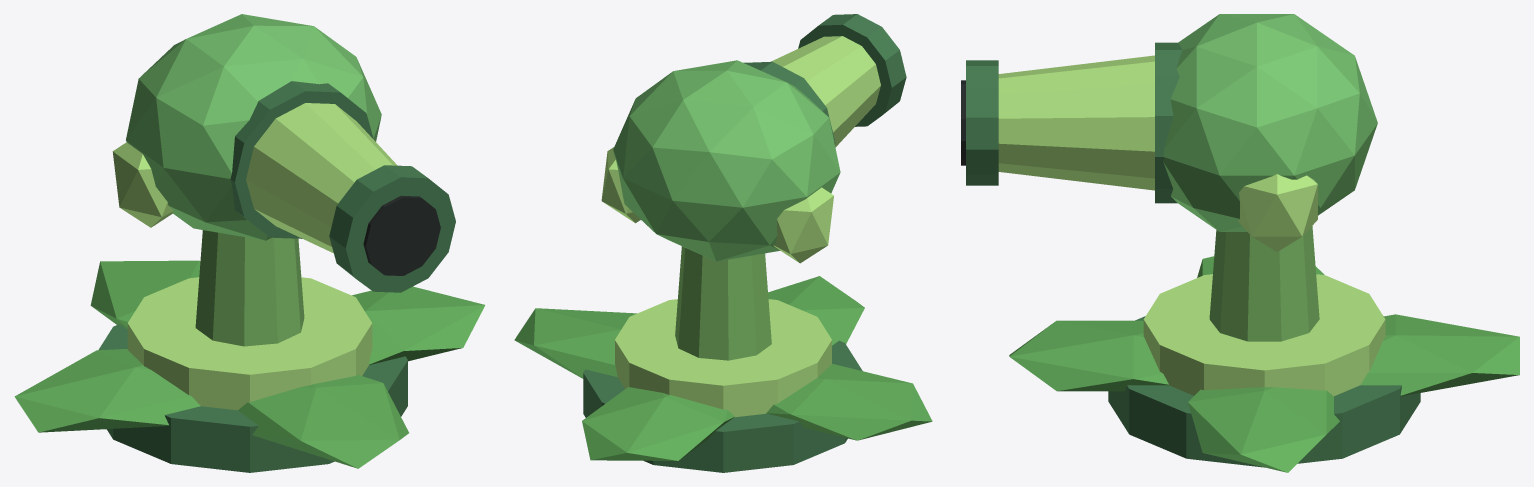
The model's file is AutoShooter.glb.
3 views of the same model, side by side, from view 1: azimuth 30°, elevation 25°; view 2: azimuth 150°, elevation 25°; view 3: azimuth 270°, elevation 25° (orthographic). The views are drawn at different scales.
Parts seen in each view (by area): view 1: BotanicalTurret_Bulb, BotanicalTurret_RotationRing, BotanicalTurret_Barrel, BotanicalTurret_Stem, BotanicalTurret_Leaf_Front, BotanicalTurret_Base, BotanicalTurret_Leaf_Left, BotanicalTurret_MuzzleRim, BotanicalTurret_Leaf_Right, BotanicalTurret_NeckCollar, BotanicalTurret_MuzzleOpening, BotanicalTurret_Leaf_Back (+1 smaller); view 2: BotanicalTurret_Bulb, BotanicalTurret_RotationRing, BotanicalTurret_Stem, BotanicalTurret_Base, BotanicalTurret_Leaf_Back, BotanicalTurret_Leaf_Left, BotanicalTurret_Barrel, BotanicalTurret_Leaf_Right, BotanicalTurret_MuzzleRim, BotanicalTurret_Leaf_Front, BotanicalTurret_EnergyPod_Left, BotanicalTurret_EnergyPod_Right (+1 smaller); view 3: BotanicalTurret_Bulb, BotanicalTurret_Barrel, BotanicalTurret_RotationRing, BotanicalTurret_Stem, BotanicalTurret_Base, BotanicalTurret_Leaf_Right, BotanicalTurret_Leaf_Back, BotanicalTurret_Leaf_Front, BotanicalTurret_EnergyPod_Right, BotanicalTurret_MuzzleRim, BotanicalTurret_NeckCollar.
Part boxes in pixels (x1=…): BotanicalTurret_Bulb: x1=126, y1=14, x2=381, y2=240; BotanicalTurret_RotationRing: x1=127, y1=277, x2=372, y2=410; BotanicalTurret_Barrel: x1=246, y1=103, x2=397, y2=252; BotanicalTurret_Stem: x1=195, y1=230, x2=304, y2=346; BotanicalTurret_Leaf_Front: x1=238, y1=374, x2=408, y2=468; BotanicalTurret_Base: x1=98, y1=324, x2=407, y2=472; BotanicalTurret_Leaf_Left: x1=14, y1=349, x2=200, y2=432; BotanicalTurret_MuzzleRim: x1=329, y1=165, x2=455, y2=292; BotanicalTurret_Leaf_Right: x1=352, y1=286, x2=485, y2=364; BotanicalTurret_NeckCollar: x1=230, y1=81, x2=373, y2=238; BotanicalTurret_MuzzleOpening: x1=363, y1=195, x2=440, y2=275; BotanicalTurret_Leaf_Back: x1=90, y1=260, x2=200, y2=329; BotanicalTurret_Bulb: x1=613, y1=60, x2=840, y2=261; BotanicalTurret_RotationRing: x1=615, y1=299, x2=831, y2=417; BotanicalTurret_Stem: x1=675, y1=246, x2=771, y2=360; BotanicalTurret_Base: x1=583, y1=340, x2=862, y2=472; BotanicalTurret_Leaf_Back: x1=582, y1=387, x2=734, y2=460; BotanicalTurret_Leaf_Left: x1=766, y1=364, x2=932, y2=440; BotanicalTurret_Barrel: x1=770, y1=36, x2=880, y2=147; BotanicalTurret_Leaf_Right: x1=514, y1=308, x2=636, y2=378; BotanicalTurret_MuzzleRim: x1=798, y1=14, x2=906, y2=126; BotanicalTurret_Leaf_Front: x1=768, y1=276, x2=864, y2=345; BotanicalTurret_EnergyPod_Left: x1=773, y1=187, x2=833, y2=263; BotanicalTurret_EnergyPod_Right: x1=601, y1=147, x2=640, y2=223; BotanicalTurret_Bulb: x1=1163, y1=14, x2=1377, y2=231; BotanicalTurret_Barrel: x1=998, y1=55, x2=1154, y2=190; BotanicalTurret_RotationRing: x1=1143, y1=274, x2=1385, y2=396; BotanicalTurret_Stem: x1=1209, y1=226, x2=1319, y2=341; BotanicalTurret_Base: x1=1108, y1=316, x2=1420, y2=467; BotanicalTurret_Leaf_Right: x1=1188, y1=387, x2=1339, y2=472; BotanicalTurret_Leaf_Back: x1=1360, y1=314, x2=1519, y2=396; BotanicalTurret_Leaf_Front: x1=1009, y1=320, x2=1168, y2=391; BotanicalTurret_EnergyPod_Right: x1=1238, y1=174, x2=1317, y2=251; BotanicalTurret_MuzzleRim: x1=966, y1=60, x2=998, y2=185; BotanicalTurret_NeckCollar: x1=1155, y1=42, x2=1182, y2=203.
Bounding box in the file's own units: 2.03 × 1.66 × 2.22.
